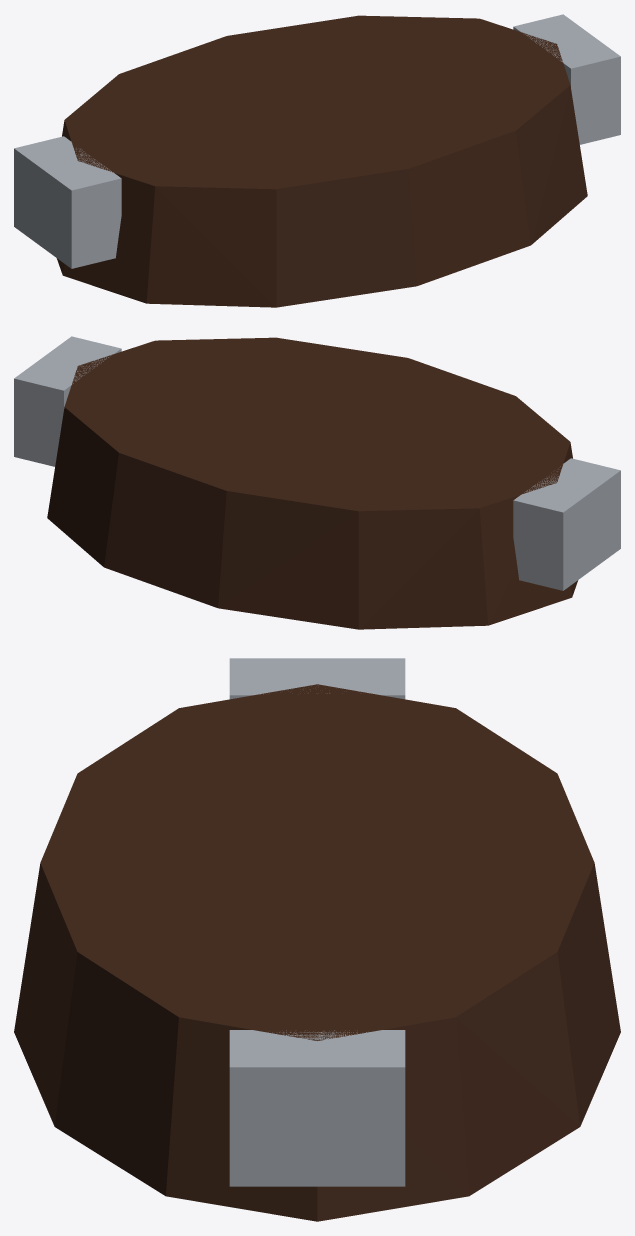
File: gear_studded_chaps_hips_f.glb
3 renders of one model, top to bottom at view 1: azimuth 30°, elevation 25°; view 2: azimuth 150°, elevation 25°; view 3: azimuth 270°, elevation 25°, orthographic. The views are drawn at different scales.
Visible parts, largest first — view 1: gear_studded_chaps_hips_f; view 2: gear_studded_chaps_hips_f; view 3: gear_studded_chaps_hips_f.
Boxes of the visible parts, left/top/right/bottom form: gear_studded_chaps_hips_f: left=14, top=14, right=620, bottom=307; gear_studded_chaps_hips_f: left=14, top=336, right=620, bottom=629; gear_studded_chaps_hips_f: left=14, top=658, right=620, bottom=1221.
Size of the model in its own units: 0.44 by 0.085 by 0.276.
